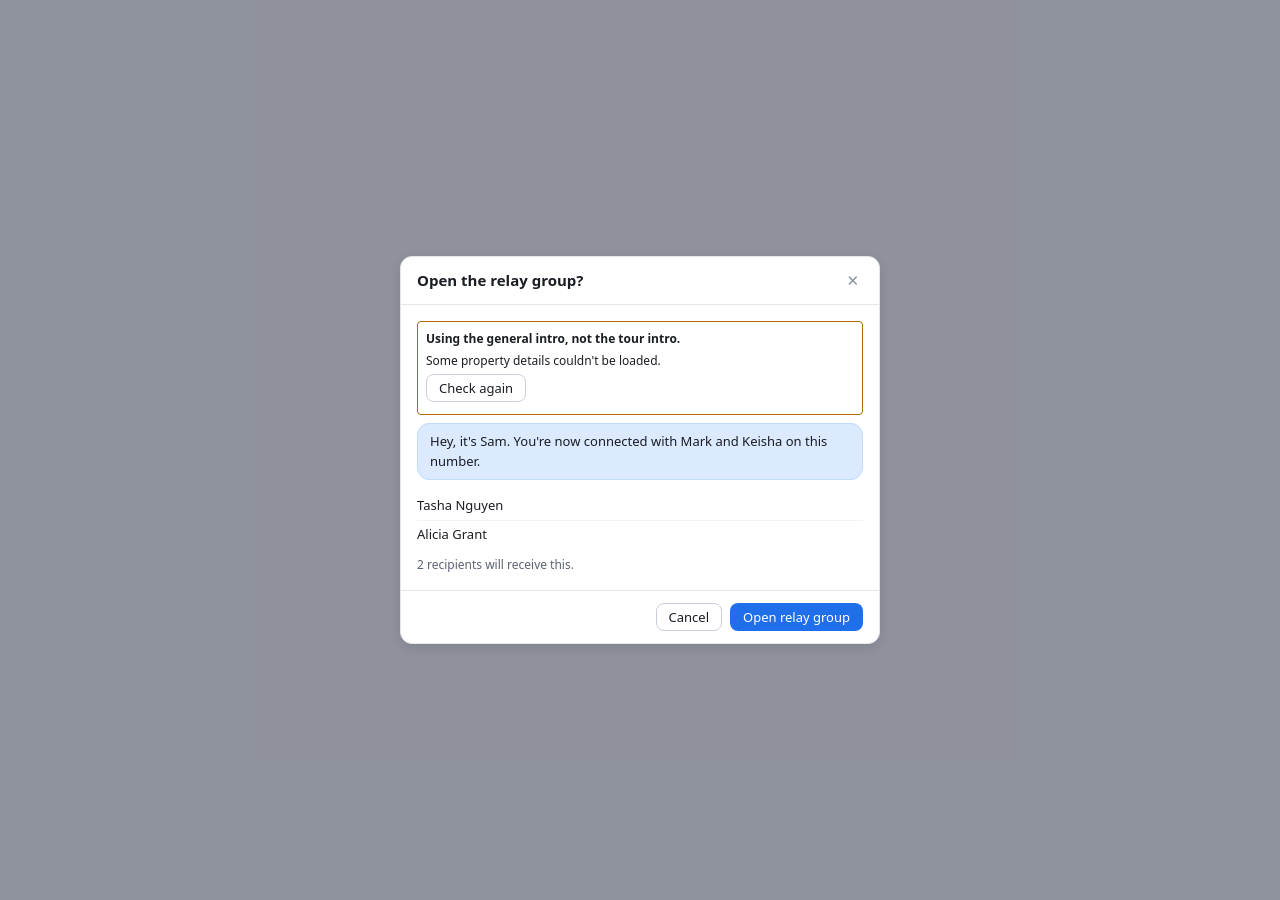
Test: RosterConfirmDialog - the intro fallback box (primary-contact-integrity spec 7.1) › a failed Check again shows the server's own sentence when it sent one
Click the button "Check again" at [476, 388], box [426,374,526,402]
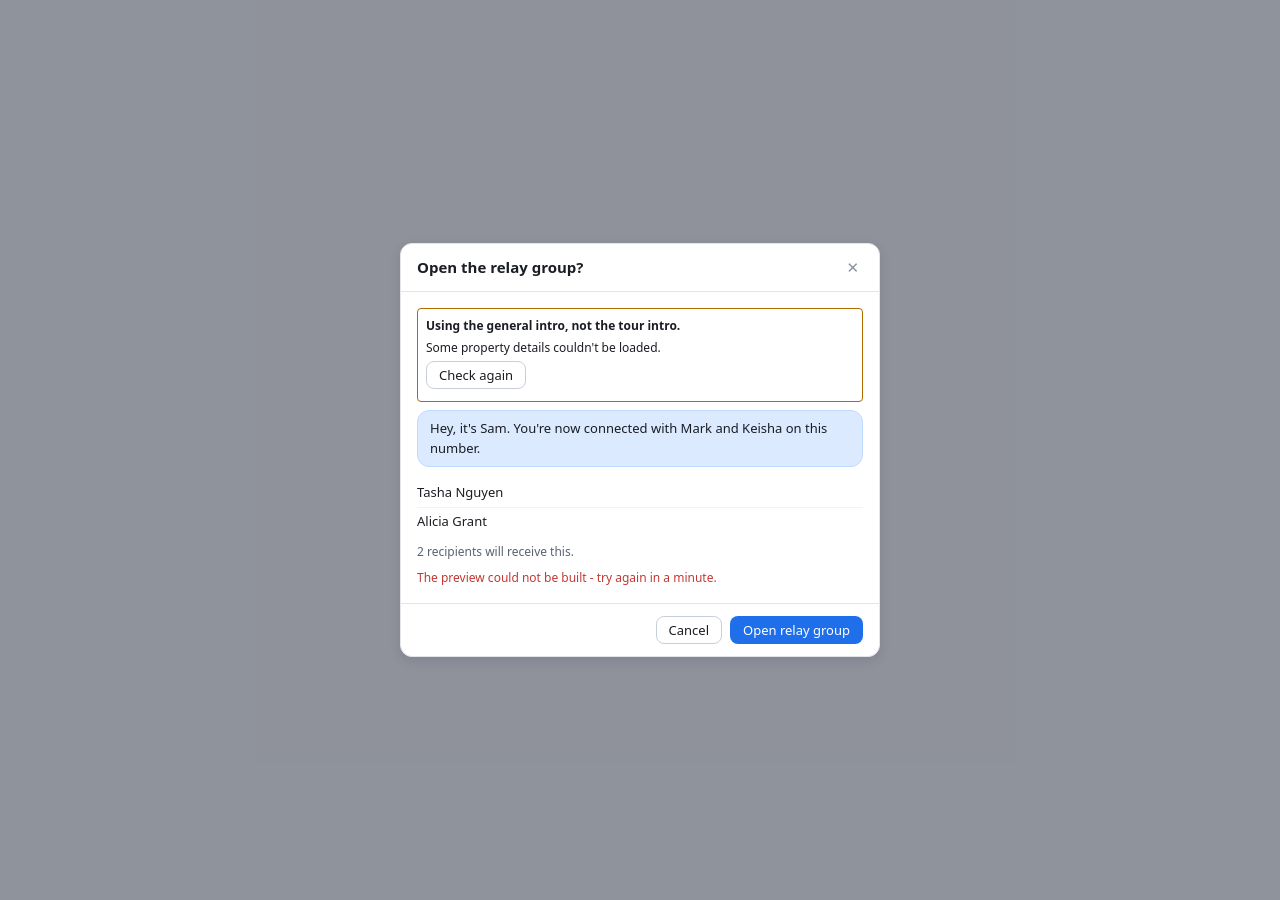
Now the message "The preview could not be built - try again in a minute." is shown, box [417,569,717,586]
